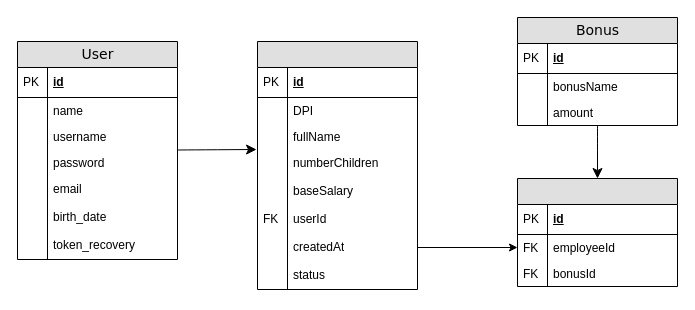
This 695x310 diagram has some shape labels left out. Each missing label, with the box of its shape:
Bonus_employee: (516, 178, 678, 286)
Employee: (256, 40, 418, 290)
